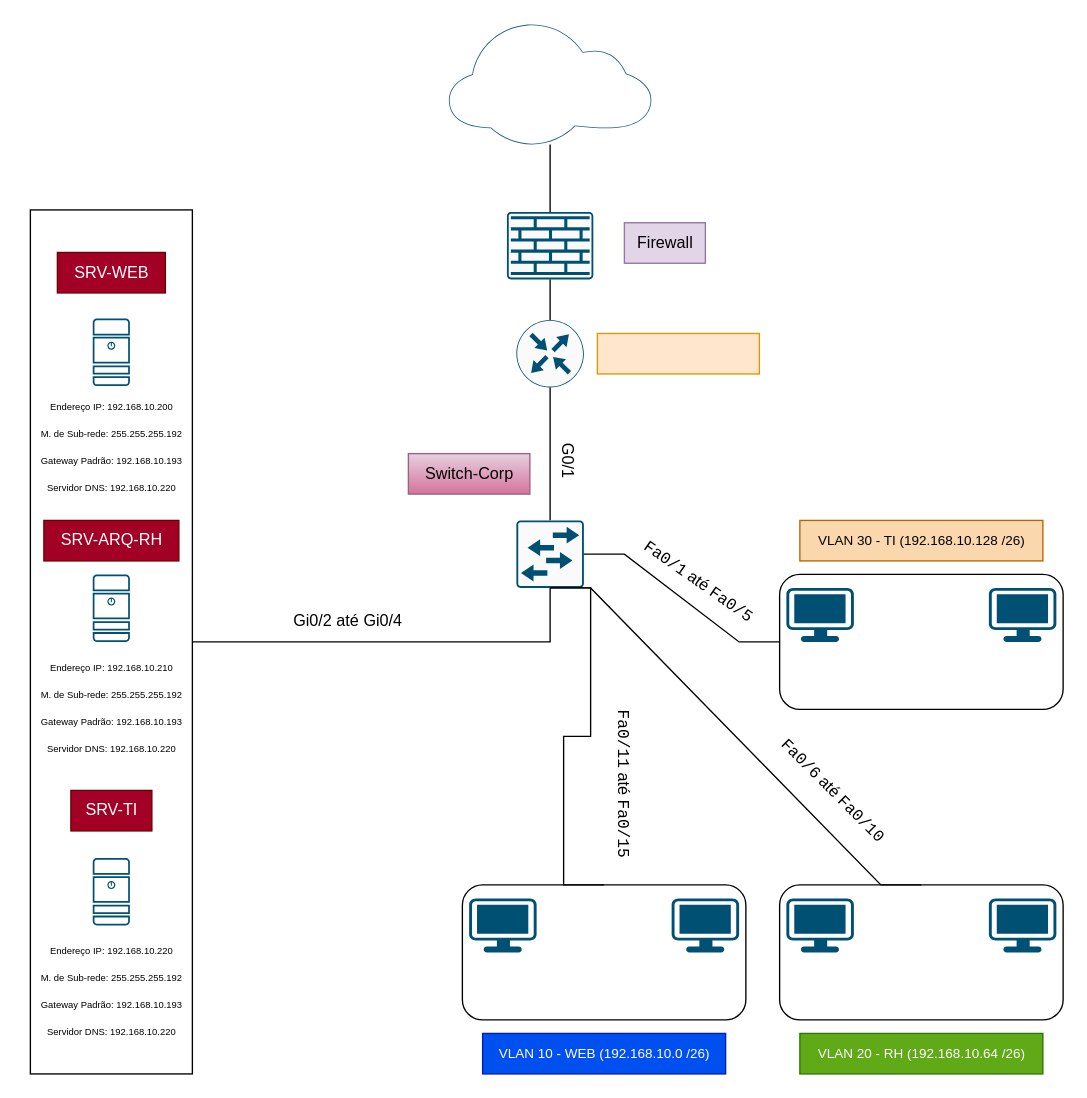
Some shapes in this 1087 by 1098 pixel diagram are drawn without their labels. Each missing label, with the centre of its shape:
"Internet" goes at (549,83).
"Roteador-Principal" goes at (677,353).
